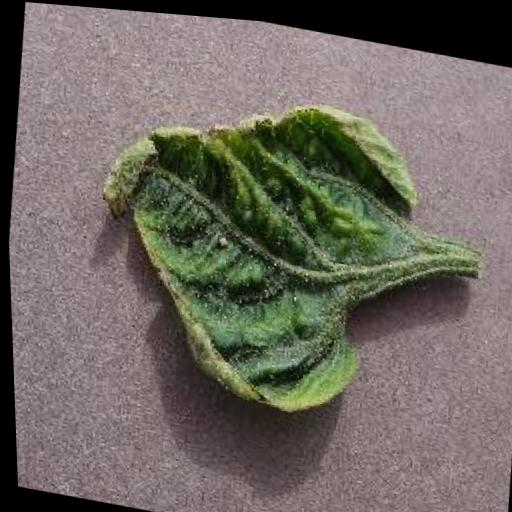Yellow Leaf Curl Virus: (79, 59, 434, 429)
